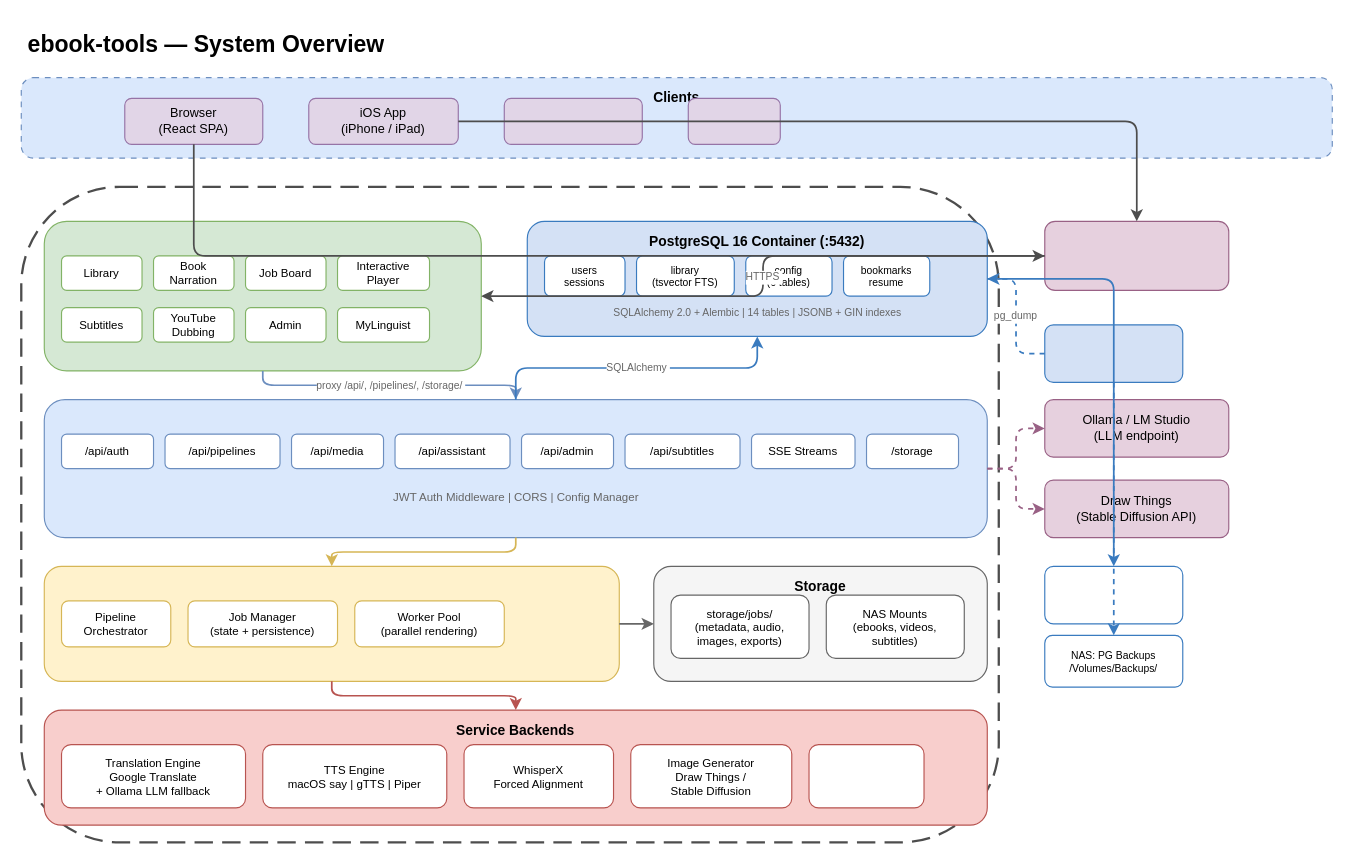
This 1352x863 diagram has some shape labels left out. The box of each missing label's shape, as (x1, y1, x2, y2) in pixels:
Backend Container (FastAPI :8000): (43, 398, 987, 538)
CLI: (687, 97, 780, 144)
Docker Compose: (20, 185, 999, 843)
Frontend Container (Nginx :5173): (43, 220, 481, 371)
NAS: PG Data /Volumes/Data/ Databases/: (1044, 565, 1183, 624)
pg-backup (daily dump, 7-day retention): (1044, 324, 1183, 382)
Processing Layer: (43, 565, 619, 681)
Resume & Bookmarks: (808, 743, 924, 808)
Synology DSM Reverse Proxy (TLS :443): (1044, 220, 1229, 290)
tvOS App (Apple TV): (503, 97, 642, 144)
